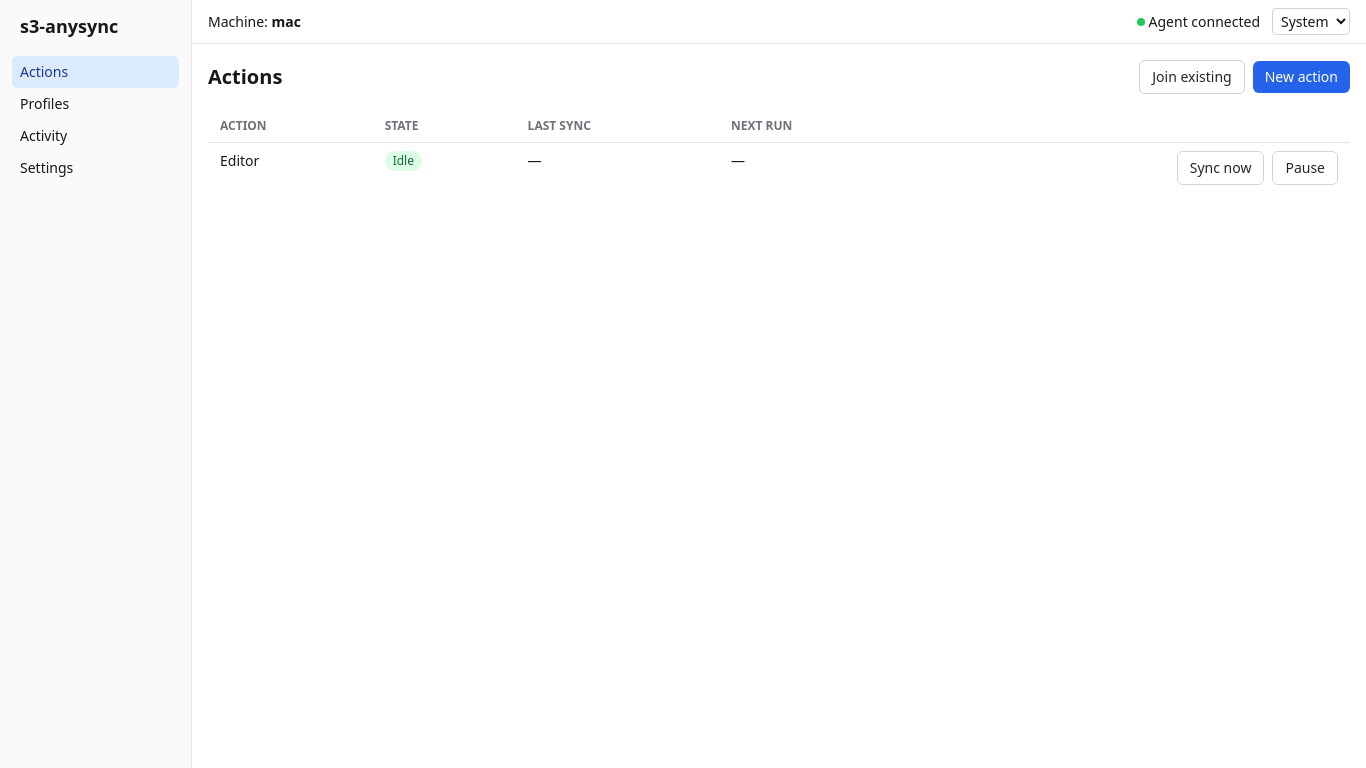
it: sync now reports a cancelled run quietly
Click the button with aria-label "Sync now Editor".
click(1221, 168)  # box [1177,151,1264,185]
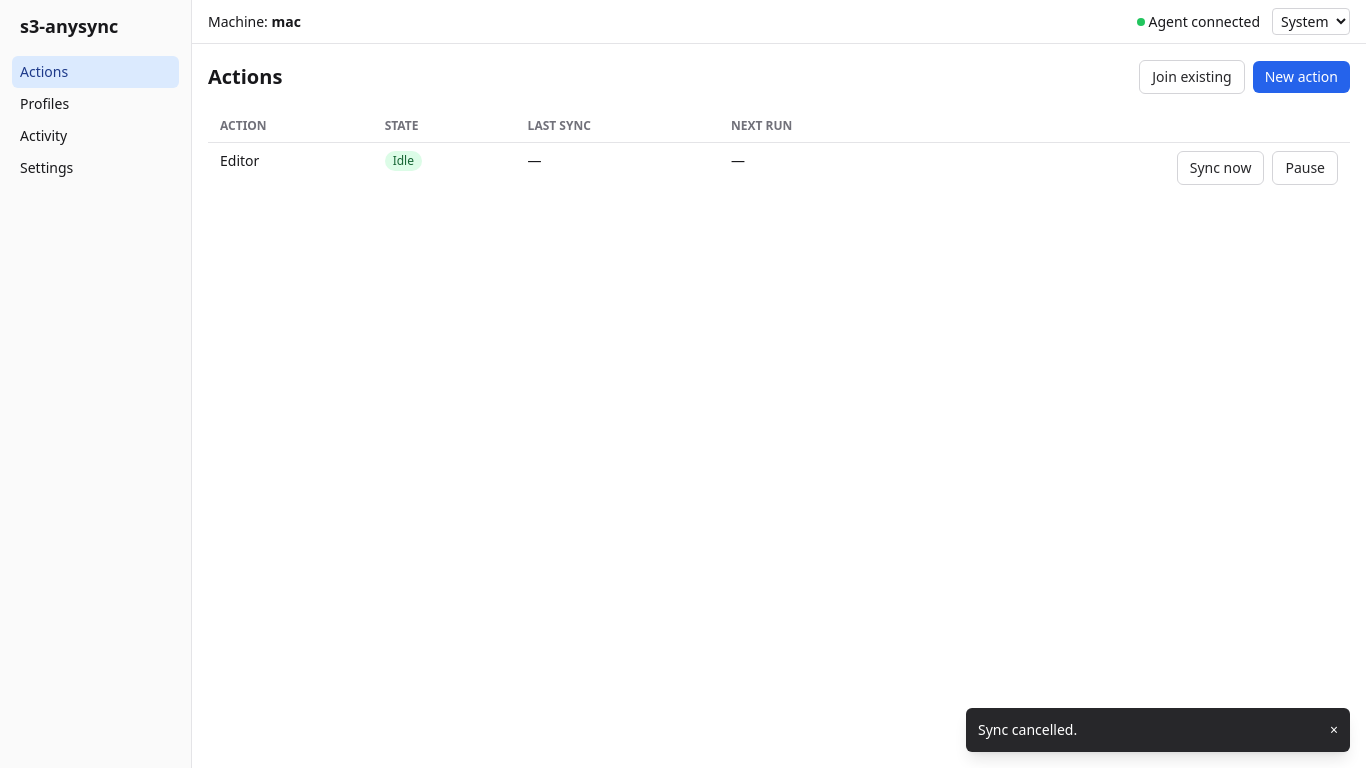
Result: the text "Sync cancelled." is shown at [978,720,1077,740]
